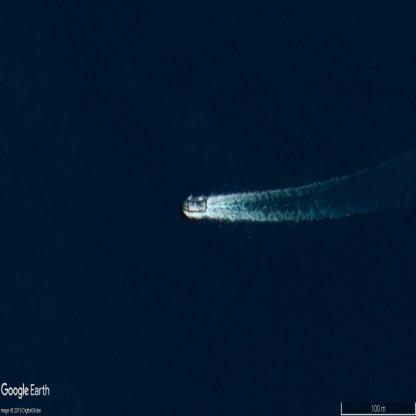ship: (182, 198, 206, 214)
